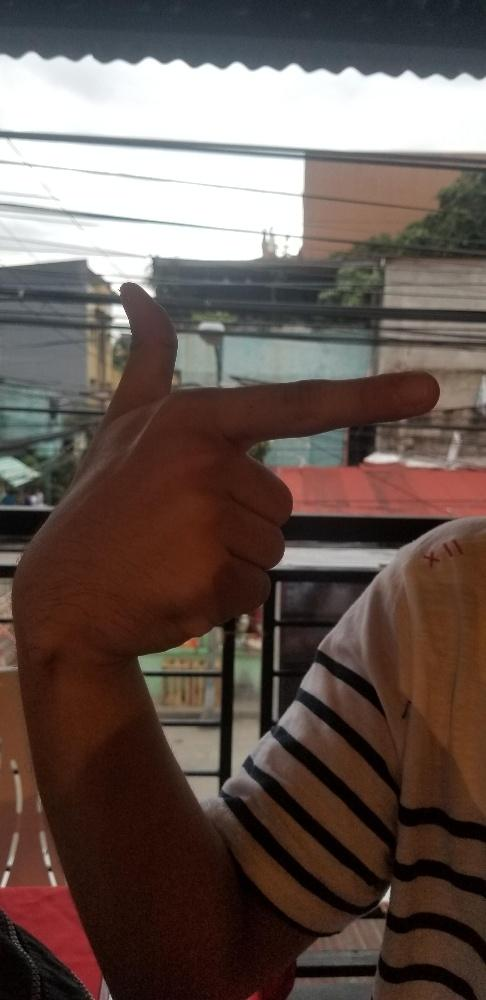g: (8, 278, 439, 651)
